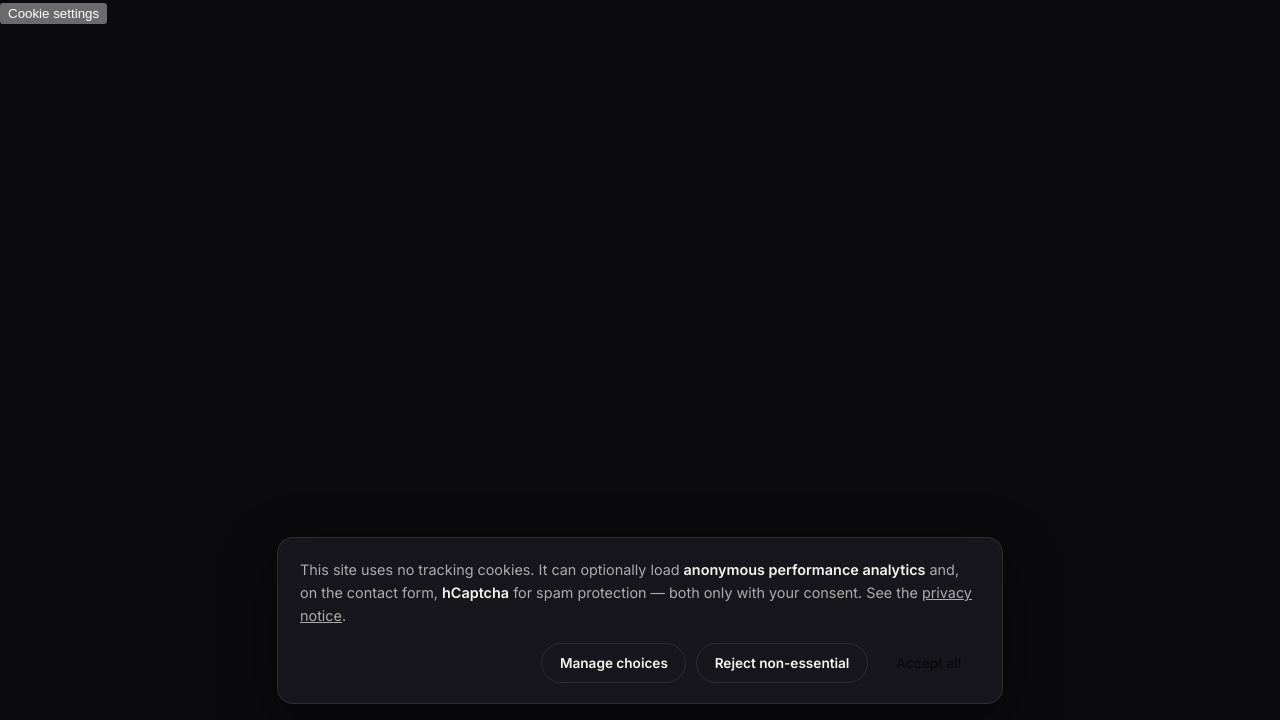
Test: CookieBanner › "Reject non-essential" stores a deny-all decision
Click the button "Reject non-essential" at (782, 663), box [696,643,868,683]
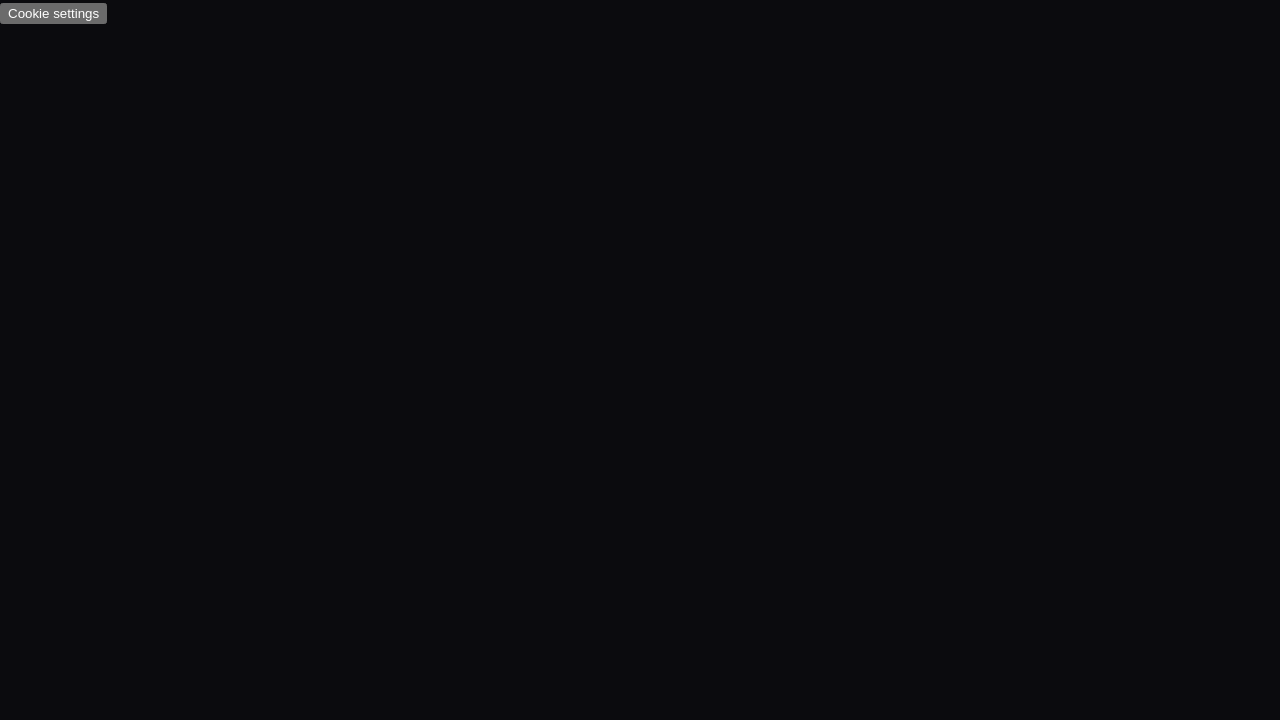
Now the dialog is gone
